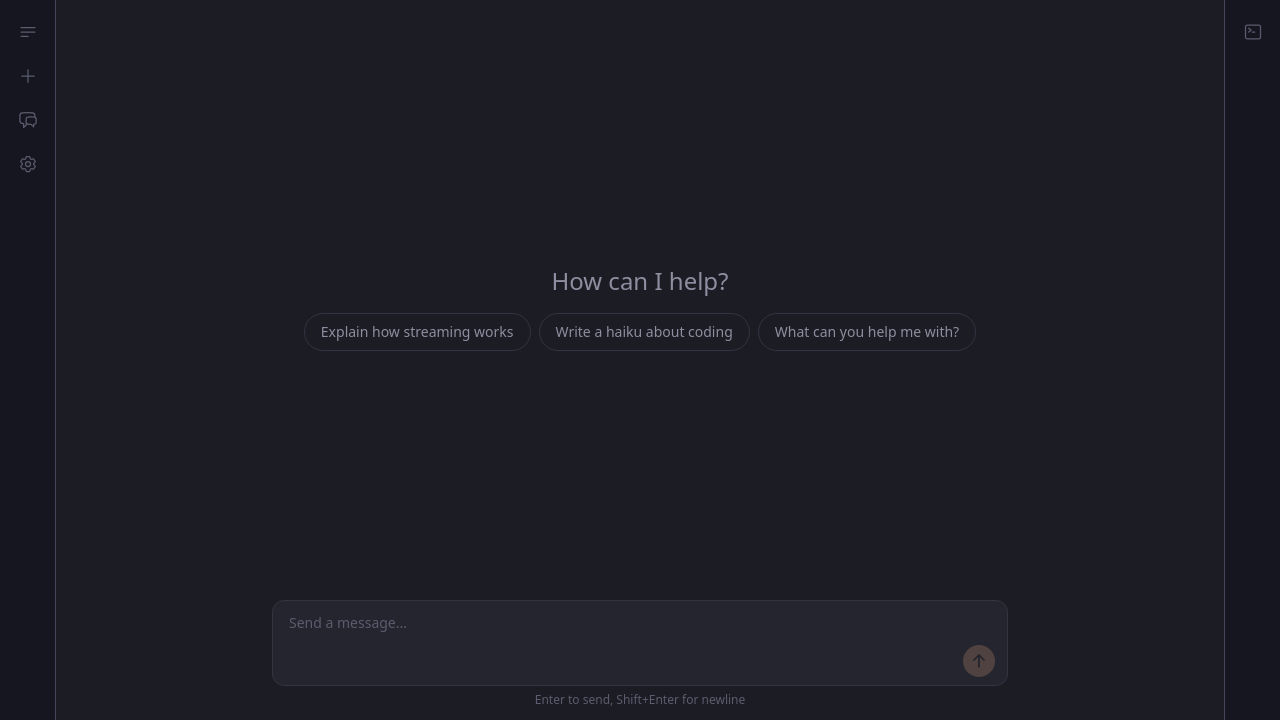
Test case: ChatPage — initialConversations prop › passes initialConversations to HistoryPane so conversations render without fetch
The image size is (1280, 720).
// Expand history pane via the "View history" icon in the collapsed sidebar
Click the button named "view history": (28, 120) [8,100,47,140]
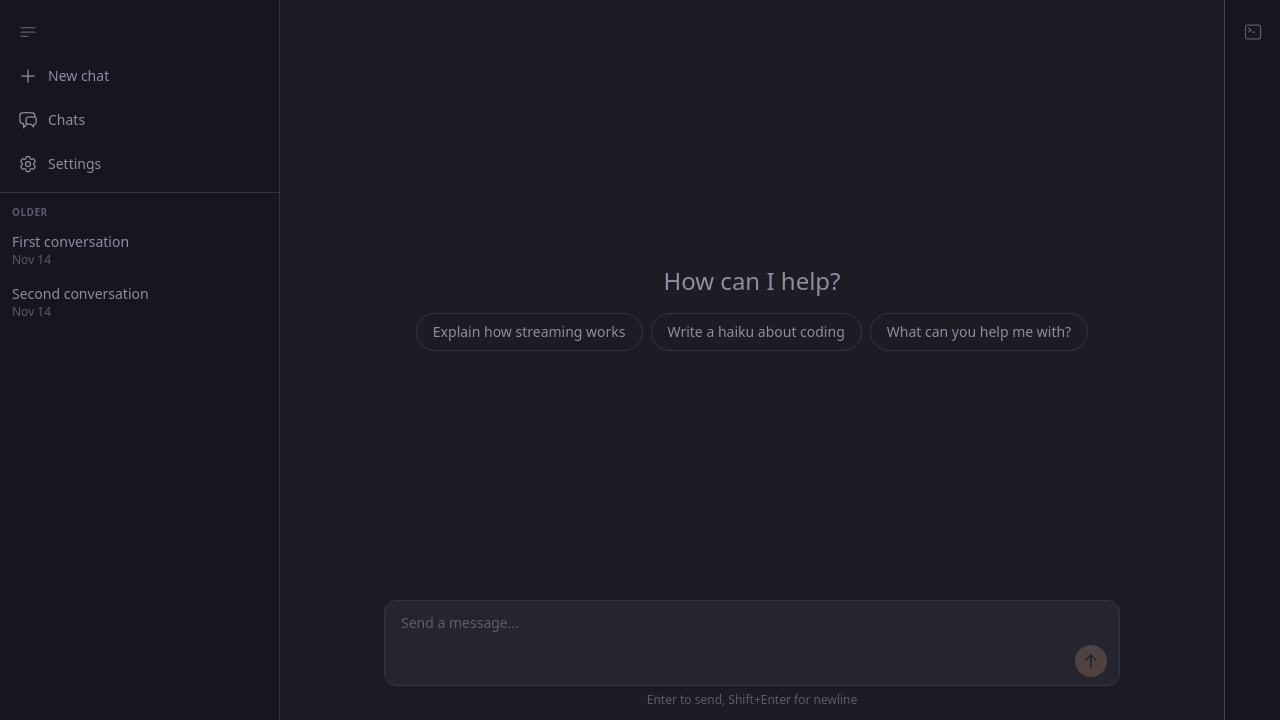
Check: the text "First conversation" is shown, box [12,232,129,251]
Check: the text "Second conversation" is shown, box [12,284,149,303]
